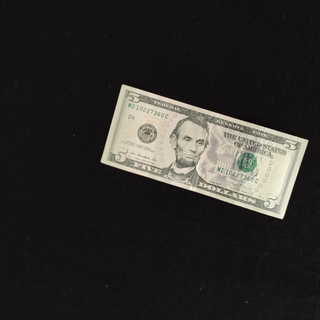5USDFront: (100, 84, 310, 219)
